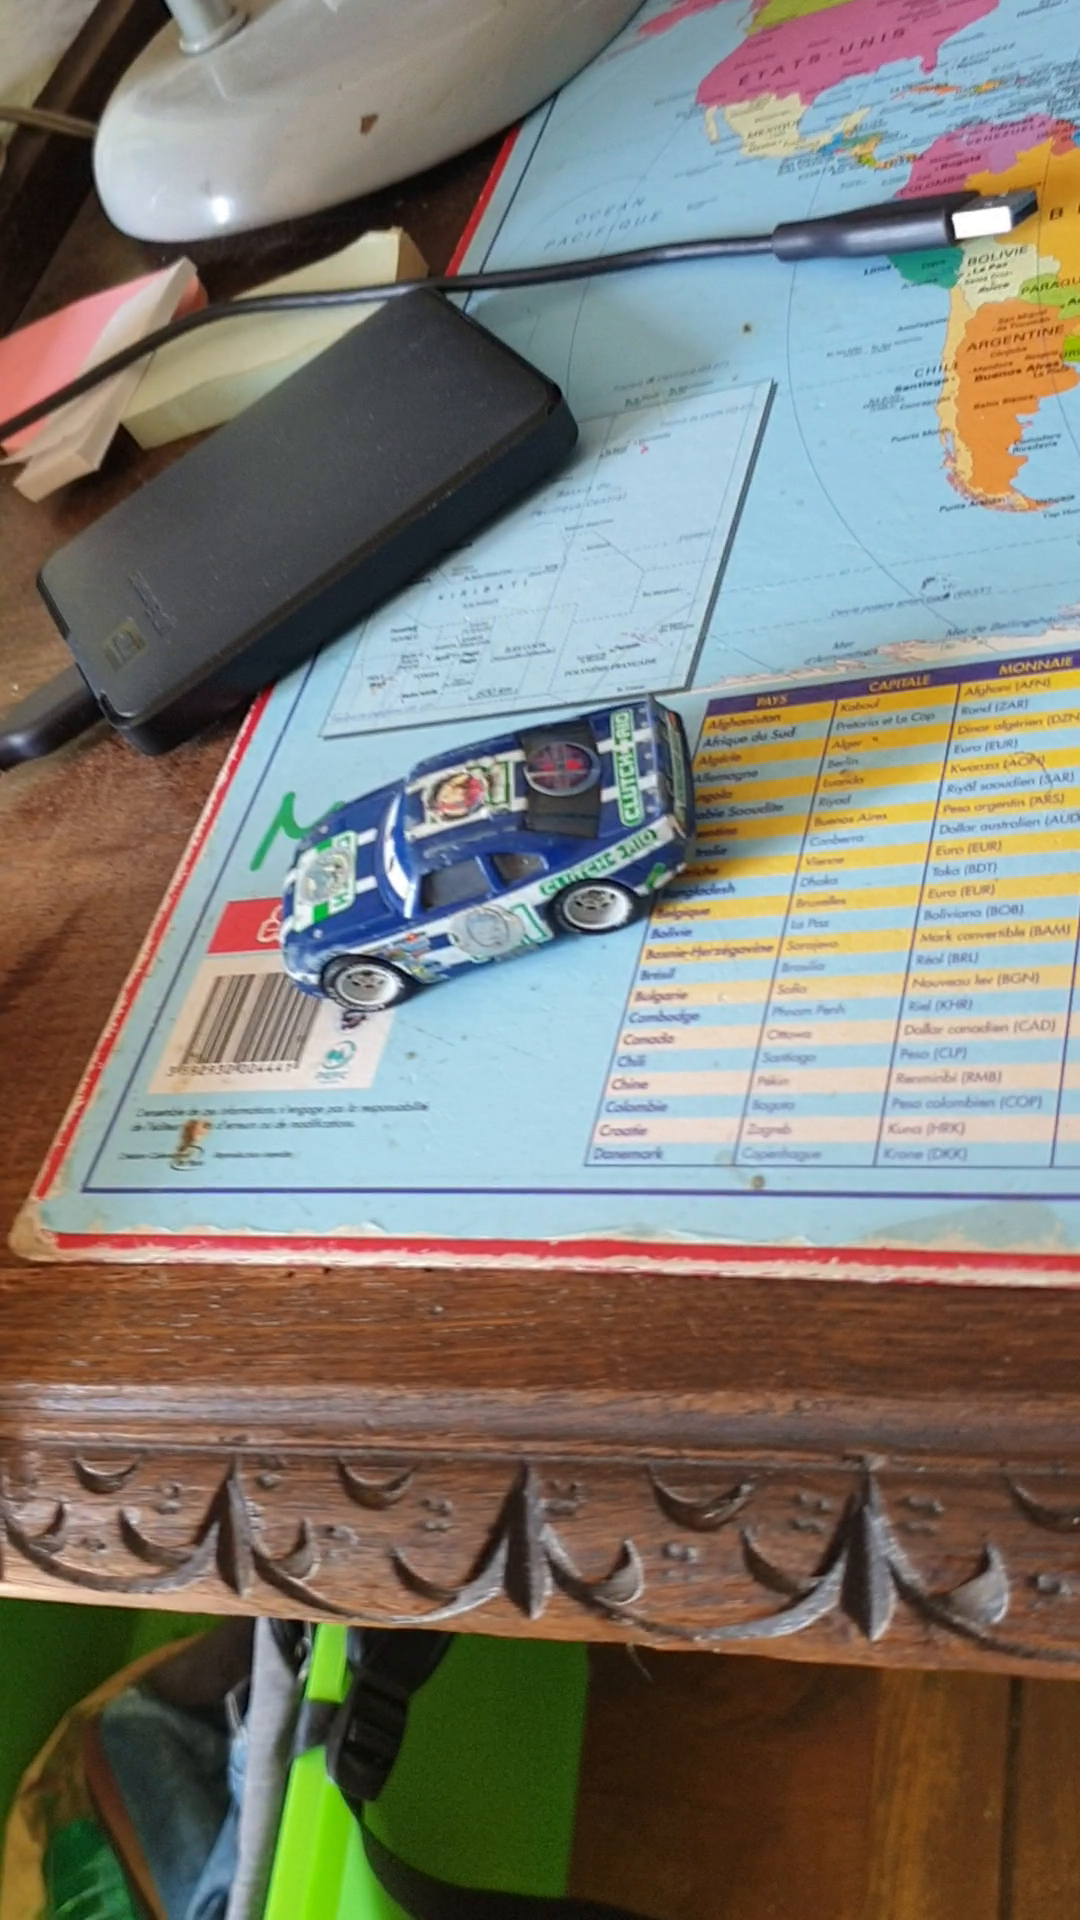cars: (276, 698, 702, 1013)
